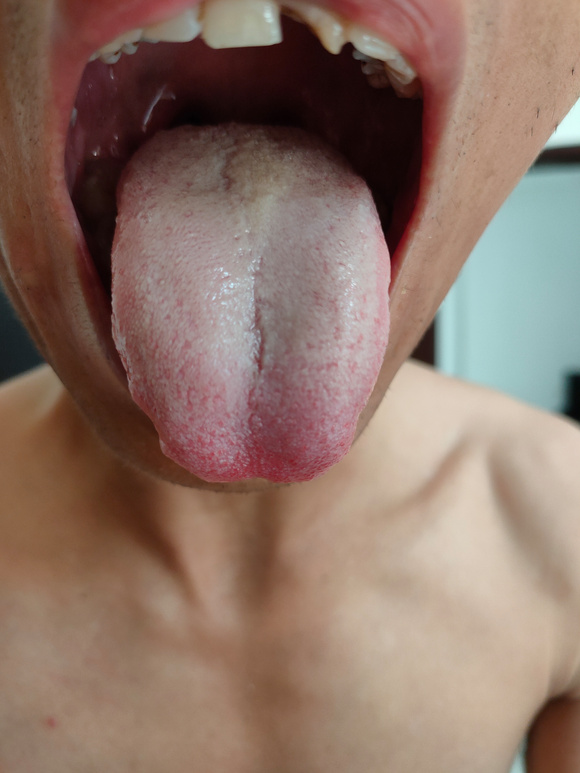baitaishe: (113, 121, 390, 483)
liewenshe: (249, 297, 267, 377)
